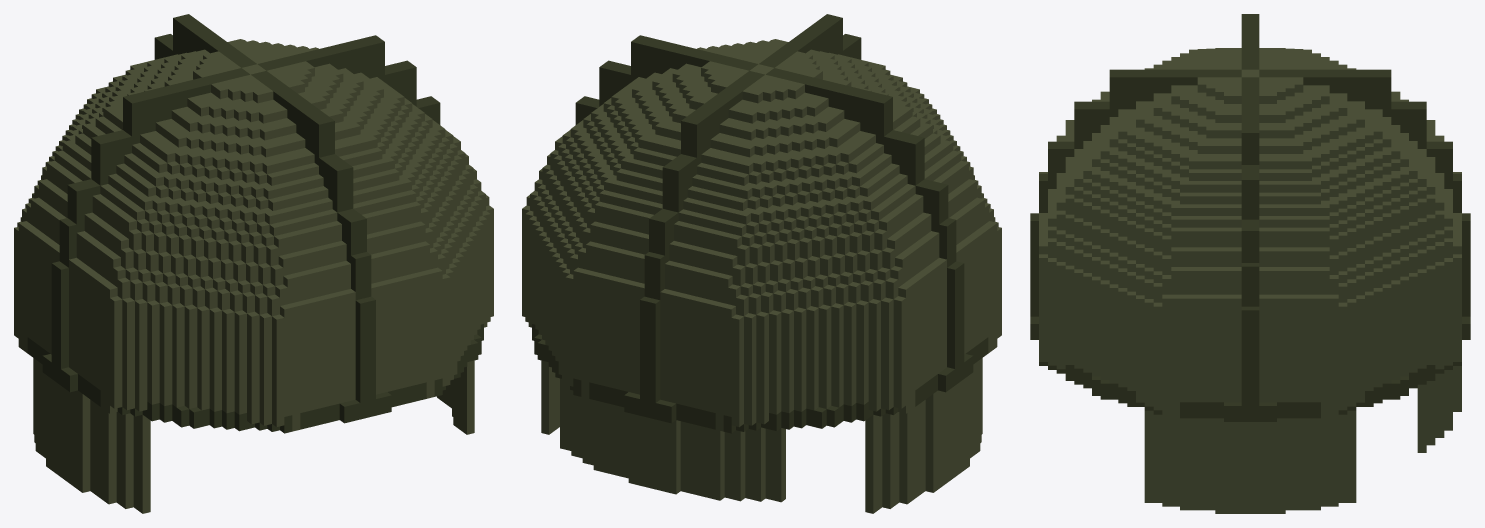
File: helmet_liner.glb
The picture shows the model from 3 angles, left to right: view 1: azimuth 30°, elevation 25°; view 2: azimuth 150°, elevation 25°; view 3: azimuth 270°, elevation 25°; orthographic projection. The views are drawn at different scales.
Visible parts, largest first — view 1: helmet_liner:compound; view 2: helmet_liner:compound; view 3: helmet_liner:compound.
Part boxes in pixels (bbox=[...]): helmet_liner:compound: bbox=[14, 14, 493, 513]; helmet_liner:compound: bbox=[522, 14, 1001, 513]; helmet_liner:compound: bbox=[1030, 14, 1470, 513].
Size of the model in its own units: 0.2 by 0.176 by 0.2.
